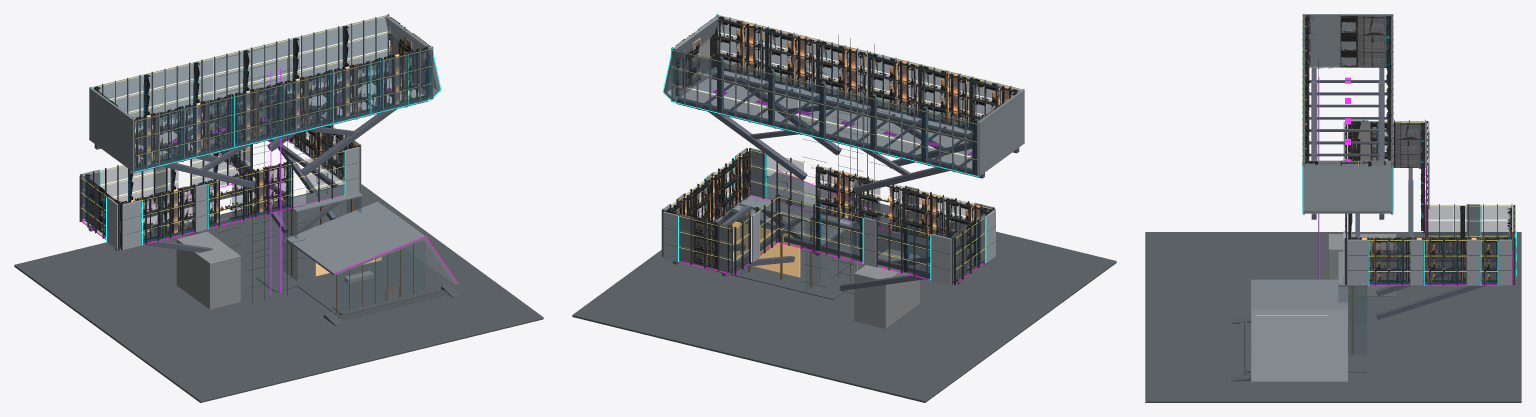
File: corporate_cantilever_traversal.glb
The picture shows the model from 3 angles, left to right: view 1: azimuth 30°, elevation 25°; view 2: azimuth 150°, elevation 25°; view 3: azimuth 270°, elevation 25°; orthographic projection. The views are drawn at different scales.
Parts seen in each view (by area): view 1: PLINTH_traversal_shell, UPPER_OFFICES_traversal_shell, LOWER_OFFICES_traversal_shell, ENTRANCE_traversal_shell, TRUSSES_traversal_shell, CORE_traversal_shell, LIGHTING_traversal_shell; view 2: PLINTH_traversal_shell, UPPER_OFFICES_traversal_shell, LOWER_OFFICES_traversal_shell, TRUSSES_traversal_shell, ENTRANCE_traversal_shell, LIGHTING_traversal_shell, CORE_traversal_shell; view 3: PLINTH_traversal_shell, LOWER_OFFICES_traversal_shell, ENTRANCE_traversal_shell, UPPER_OFFICES_traversal_shell, TRUSSES_traversal_shell, LIGHTING_traversal_shell, CORE_traversal_shell.
Boxes of the visible parts, x1,y1,x2,y2 form: PLINTH_traversal_shell: (14,184,543,402); UPPER_OFFICES_traversal_shell: (89,14,440,172); LOWER_OFFICES_traversal_shell: (79,85,361,250); ENTRANCE_traversal_shell: (256,185,457,314); TRUSSES_traversal_shell: (88,71,428,252); CORE_traversal_shell: (176,45,304,309); LIGHTING_traversal_shell: (81,14,458,295); PLINTH_traversal_shell: (572,176,1116,402); UPPER_OFFICES_traversal_shell: (663,14,1024,176); LOWER_OFFICES_traversal_shell: (661,147,995,285); TRUSSES_traversal_shell: (673,73,1019,290); ENTRANCE_traversal_shell: (706,171,871,299); LIGHTING_traversal_shell: (662,14,1025,285); CORE_traversal_shell: (802,35,919,328); PLINTH_traversal_shell: (1145,232,1521,402); LOWER_OFFICES_traversal_shell: (1343,119,1516,285); ENTRANCE_traversal_shell: (1250,252,1367,381); UPPER_OFFICES_traversal_shell: (1302,14,1393,214); TRUSSES_traversal_shell: (1309,67,1497,319); LIGHTING_traversal_shell: (1251,16,1516,381); CORE_traversal_shell: (1318,59,1396,296).
Size of the model in its own units: 83 by 55.35 by 78.
Materials: 17 (1 with a texture image).
